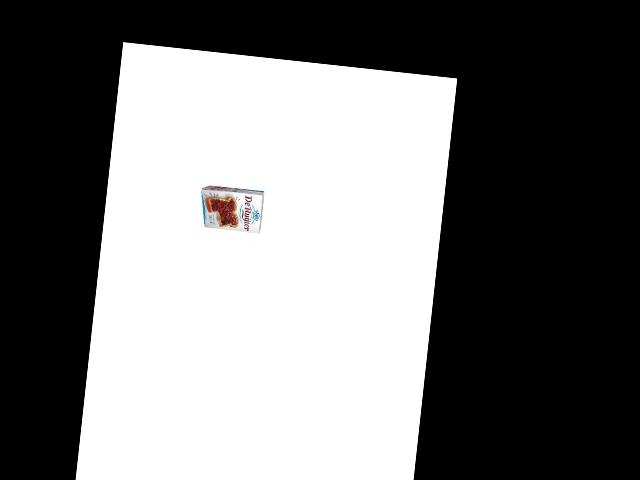chocolate: (198, 178, 268, 239)
